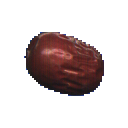gd: (17, 12, 109, 113)
